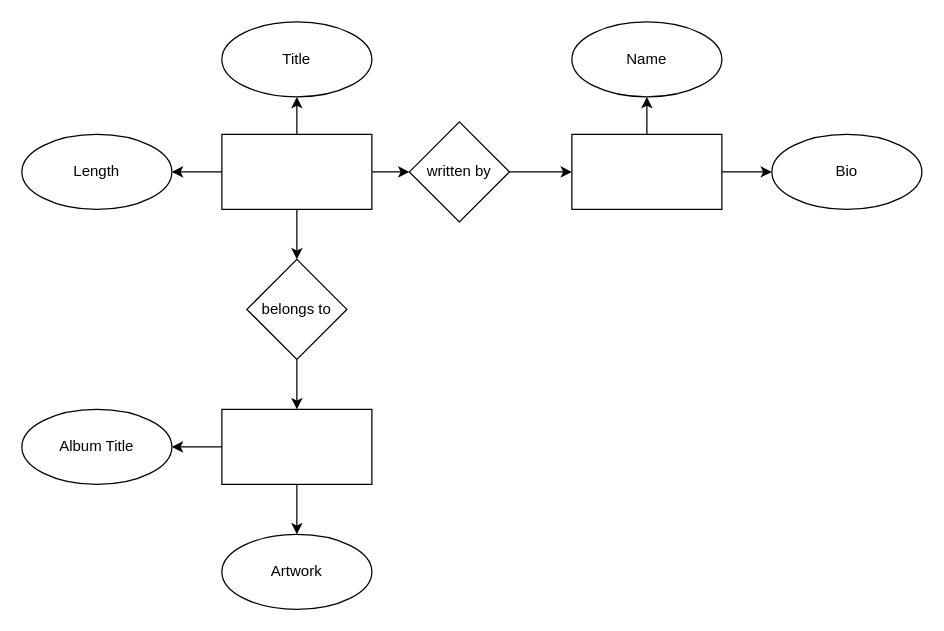
Image size: 944x631. Some labels were removed from this diagram. Each missing label, with the centre of its shape:
Album: point (296, 446)
Artist: point (646, 171)
Song: point (296, 171)
